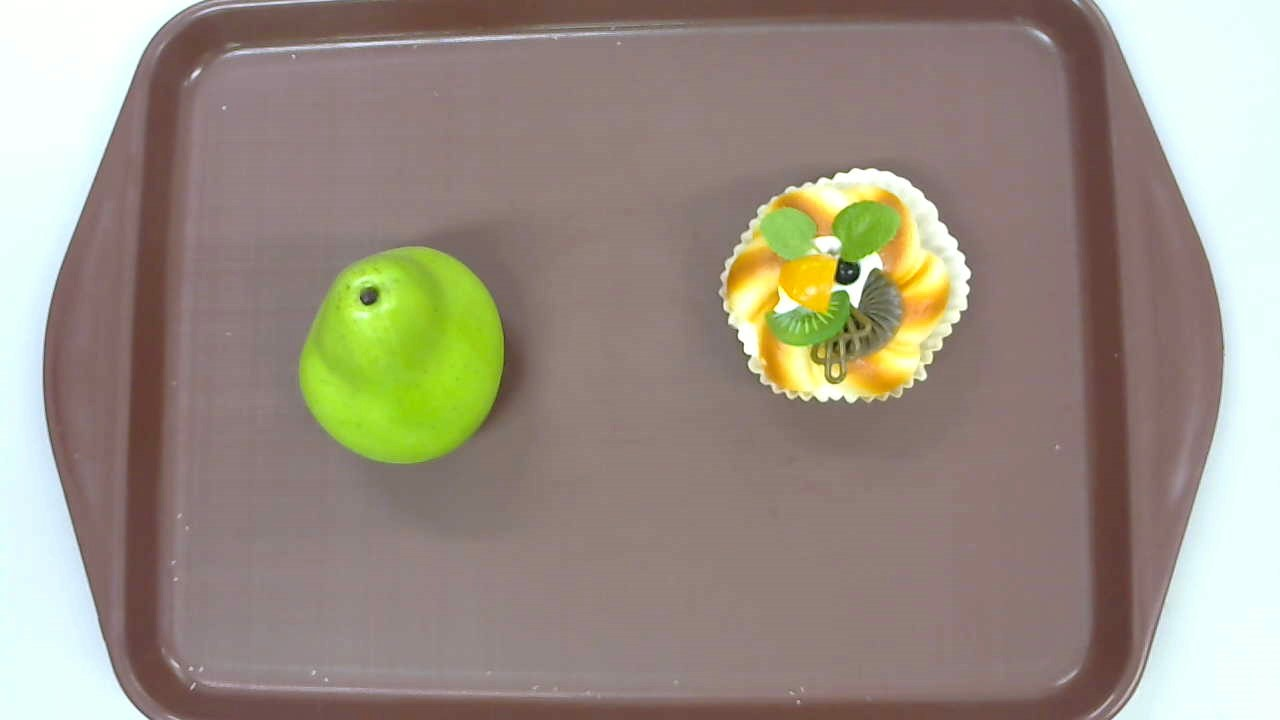fruit tart: (718, 167, 972, 407)
green pear: (298, 247, 504, 466)
